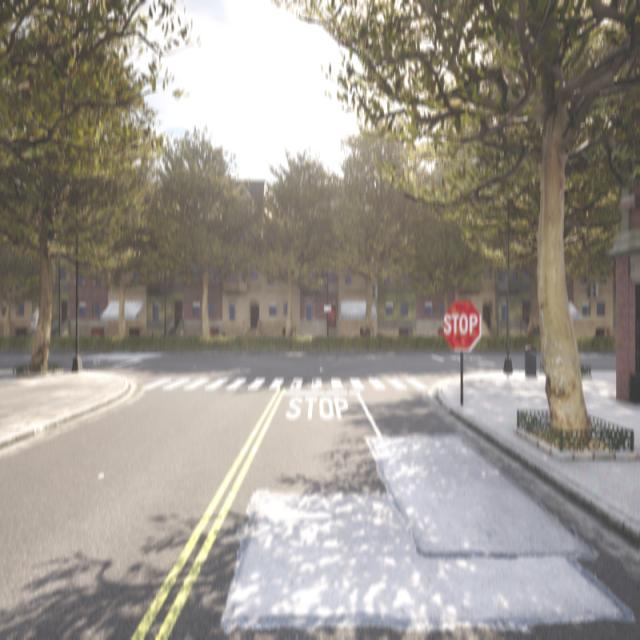stop sign: (440, 297, 483, 353), (442, 309, 480, 337)
